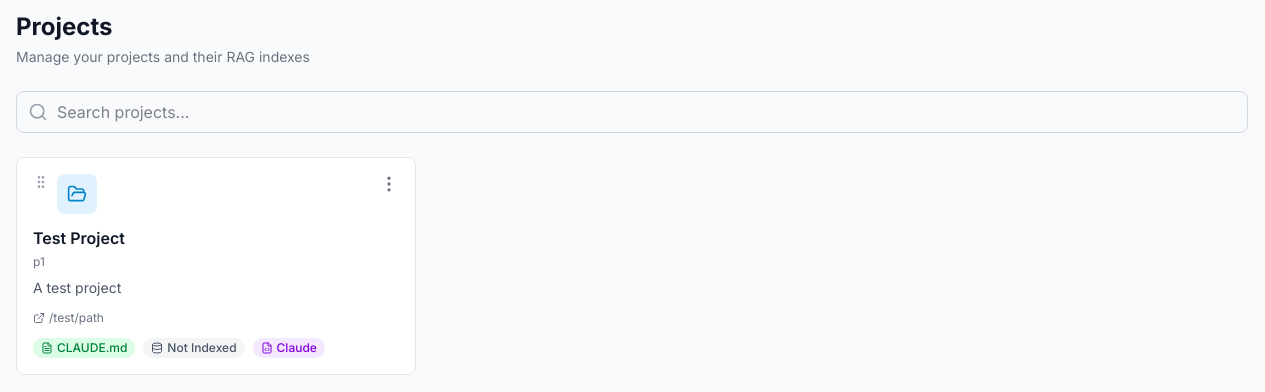
it: ProjectsPage › opens dropdown menu when MoreVertical button is clicked on a project card
The width and height of the screenshot is (1265, 392).
Click the 1st button: (389,184) [375,170,403,198]
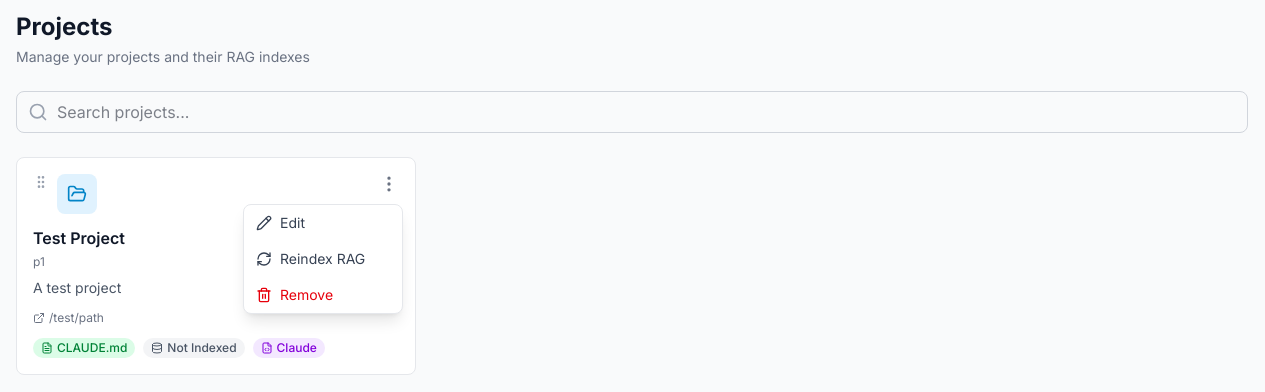
Check: the button "Edit" is shown, box [244,205,402,241]
Check: the button "Reindex RAG" is shown, box [244,241,402,277]
Check: the button "Remove" is shown, box [244,277,402,313]
